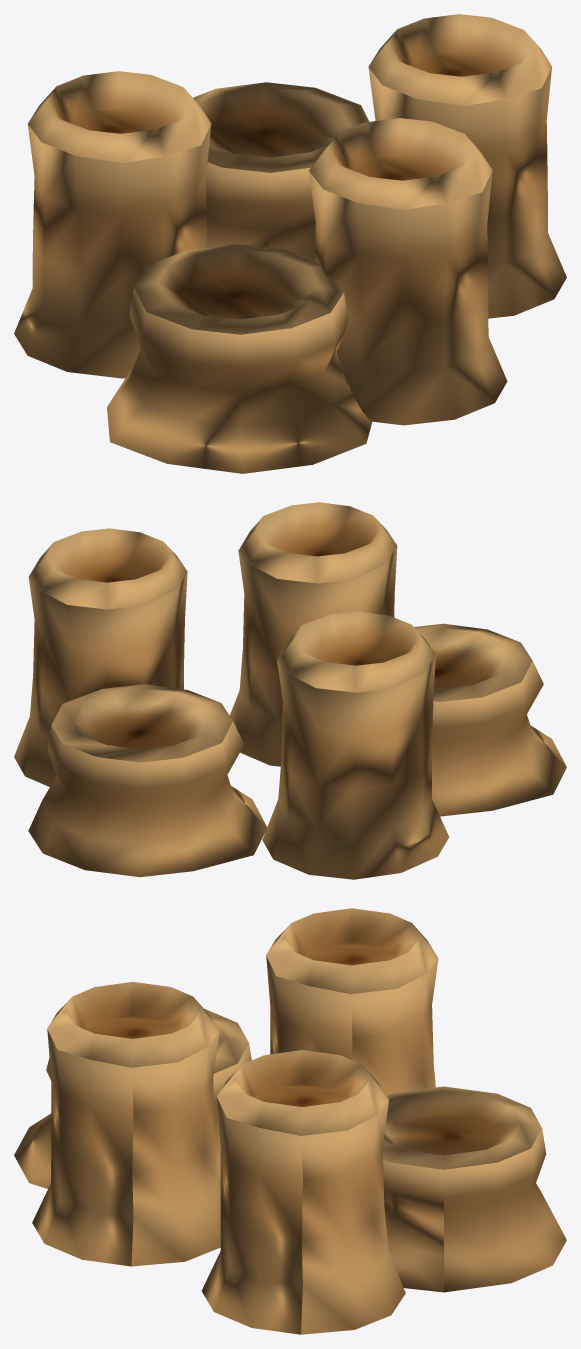
File: FloorDeco1B-004_02_23_3006.fbx
3 views of the same model, one above another, from view 1: azimuth 30°, elevation 25°; view 2: azimuth 150°, elevation 25°; view 3: azimuth 270°, elevation 25° (orthographic). The views are drawn at different scales.
Parts seen in each view (by area): view 1: PropCandles1 (8), PropCandles1 (1), PropCandles1 (2), PropCandles1 (9), PropCandles1 (6); view 2: PropCandles1 (2), PropCandles1 (6), PropCandles1 (9), PropCandles1 (1), PropCandles1 (8); view 3: PropCandles1 (9), PropCandles1 (1), PropCandles1 (6), PropCandles1 (2), PropCandles1 (8).
Part boxes in pixels (x1,y1,x2,y2): PropCandles1 (8): (107, 244, 372, 473); PropCandles1 (1): (309, 118, 507, 425); PropCandles1 (2): (14, 71, 211, 378); PropCandles1 (9): (368, 14, 566, 318); PropCandles1 (6): (193, 82, 369, 260); PropCandles1 (2): (262, 611, 449, 879); PropCandles1 (6): (28, 684, 267, 877); PropCandles1 (9): (14, 528, 187, 786); PropCandles1 (1): (229, 502, 397, 766); PropCandles1 (8): (414, 623, 566, 816); PropCandles1 (9): (201, 1050, 405, 1334); PropCandles1 (1): (32, 982, 220, 1266); PropCandles1 (6): (382, 1086, 566, 1292); PropCandles1 (2): (266, 908, 438, 1095); PropCandles1 (8): (14, 1009, 251, 1188).
Size of the model in its own units: 1.59 by 0.6714 by 1.57.
